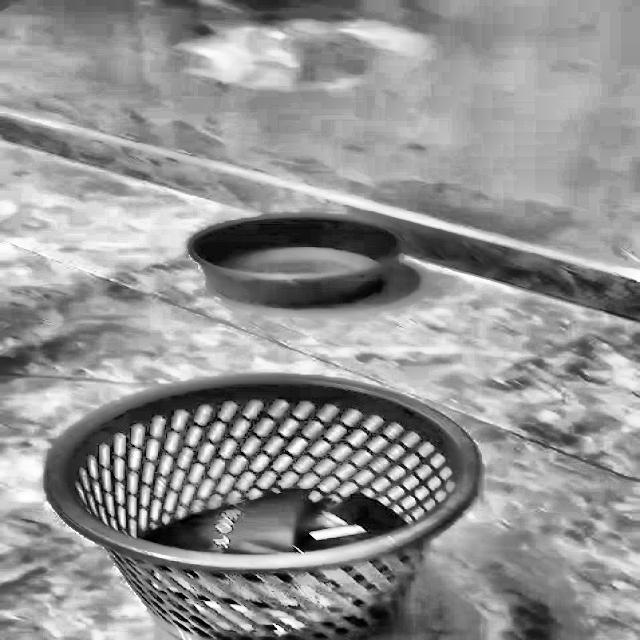Empty: (74, 393, 490, 562)
